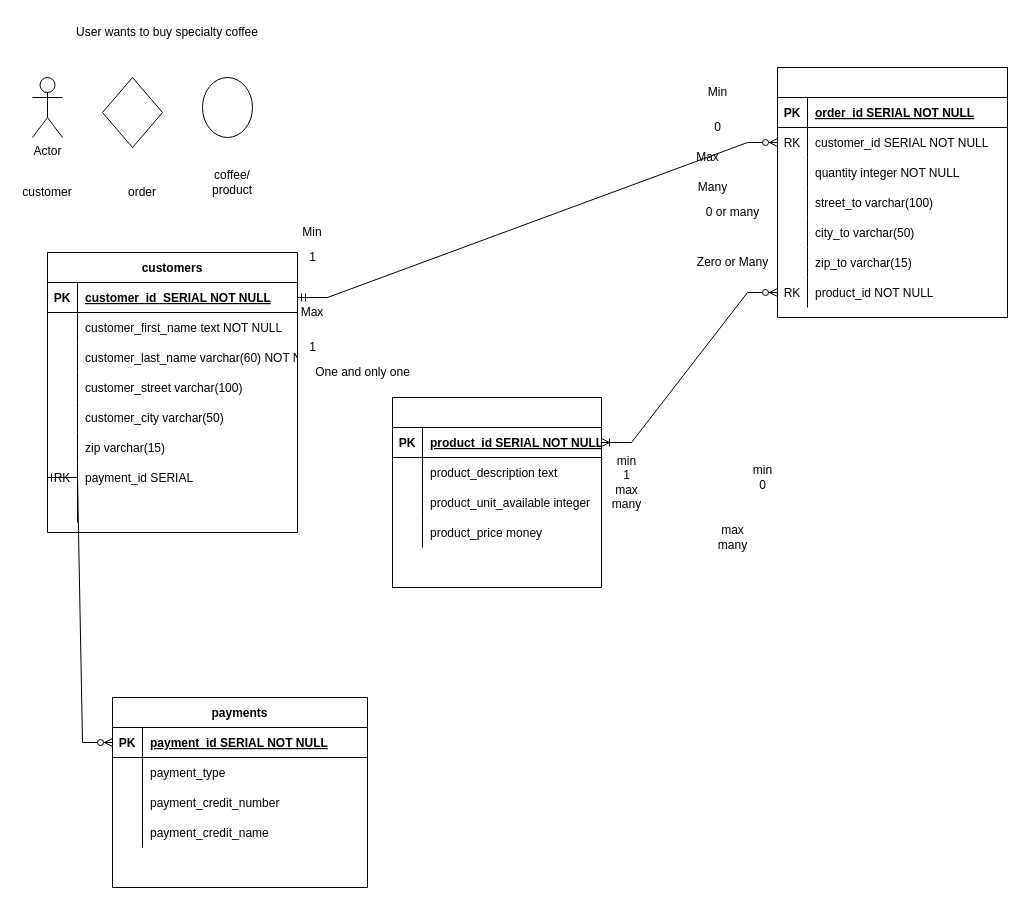
The diagram is 1025 pixels wide and 905 high, and some of its shapes have lost their labels. The shapes that lost their labels are listed below. From the top down, each one's box as (x1, y1, x2, y2) in pixels, then its label:
(776, 66, 1008, 318): orders
(392, 396, 602, 588): products
